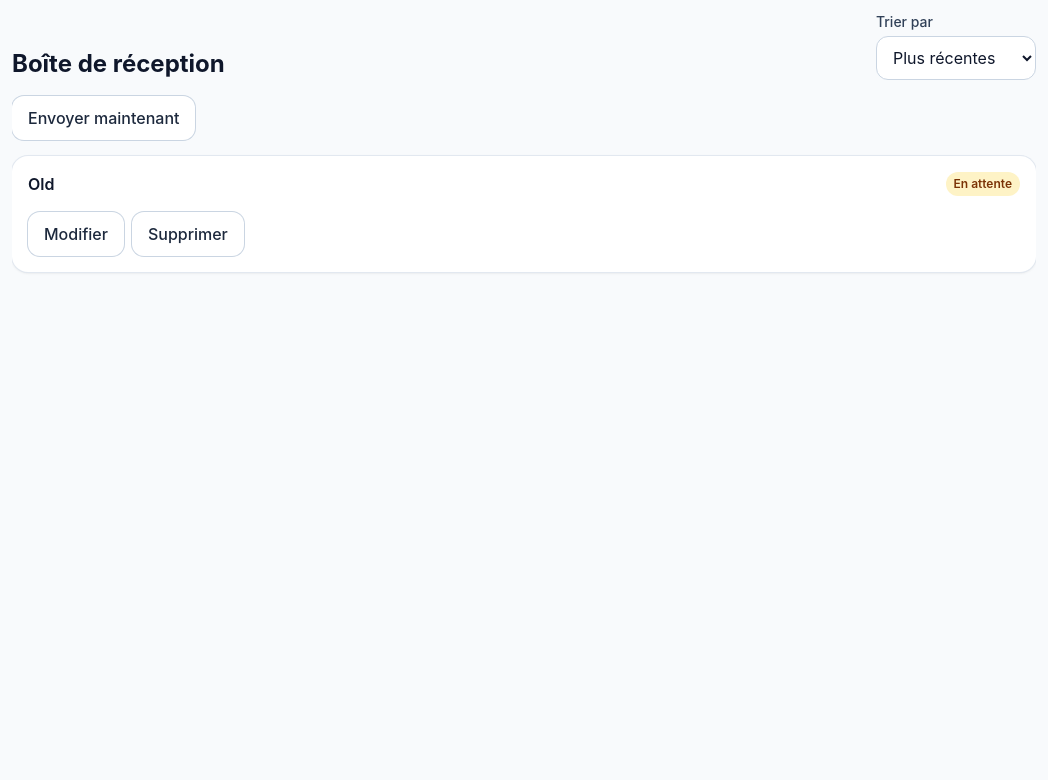
Test: InboxView › edits a capture
The image size is (1048, 780).
Click the button "Modifier".
click(76, 234)  # box x1=28 y1=212 x2=124 y2=256
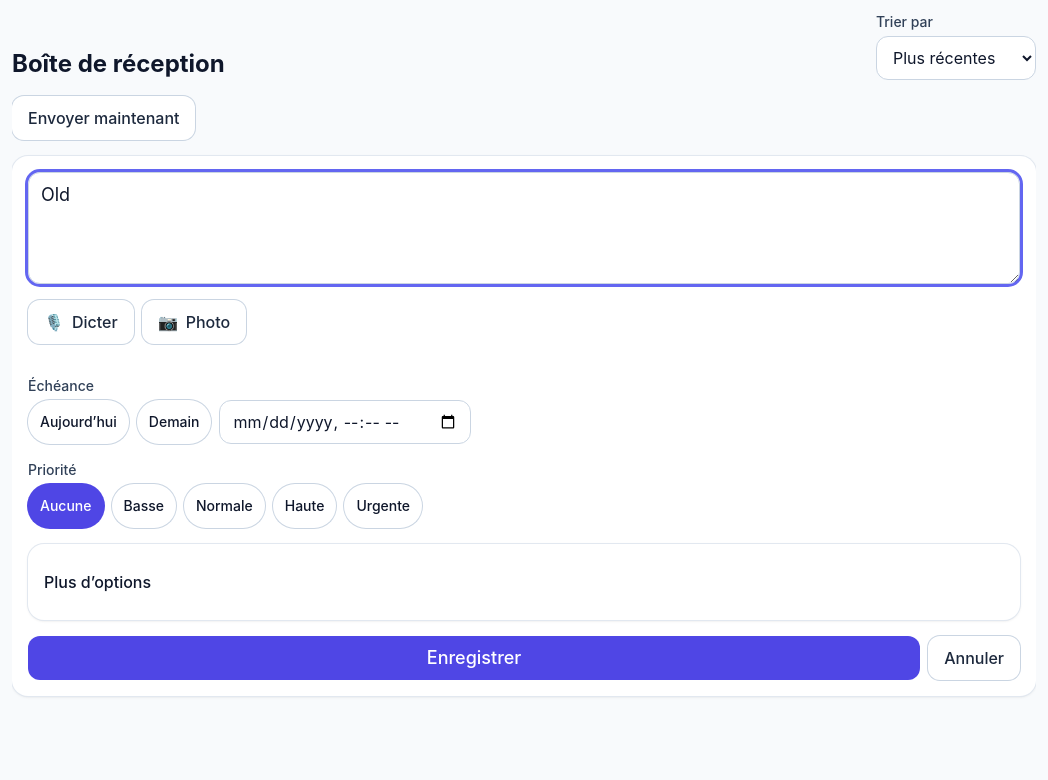
Click the button "Annuler".
click(974, 658)  # box x1=928 y1=636 x2=1020 y2=680
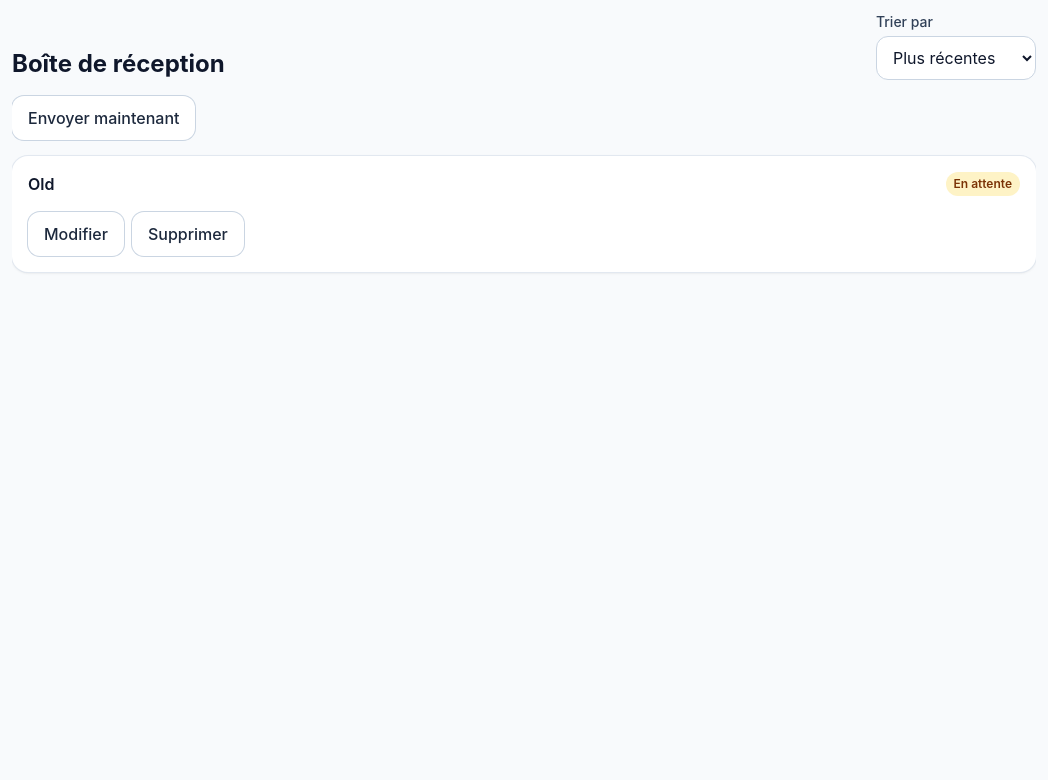
Click the button "Modifier".
click(76, 234)  # box x1=28 y1=212 x2=124 y2=256
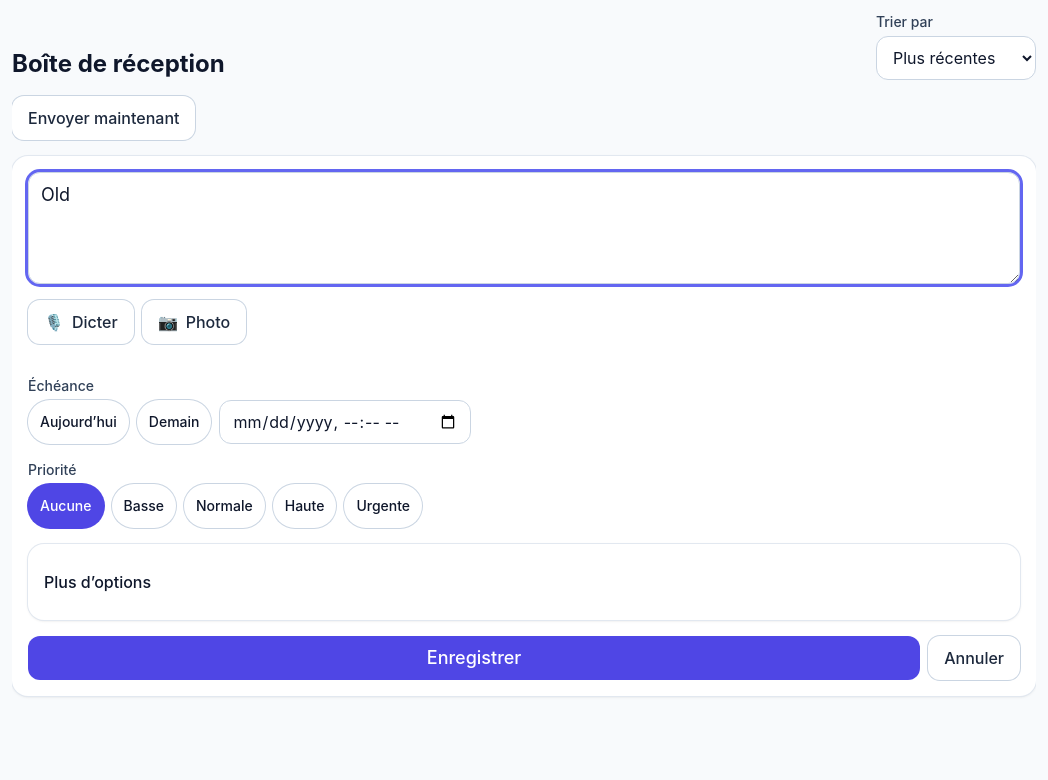
Replace the text in the text box named "Tâche" with "New" at coordinates (524, 228), box x1=28 y1=172 x2=1020 y2=284
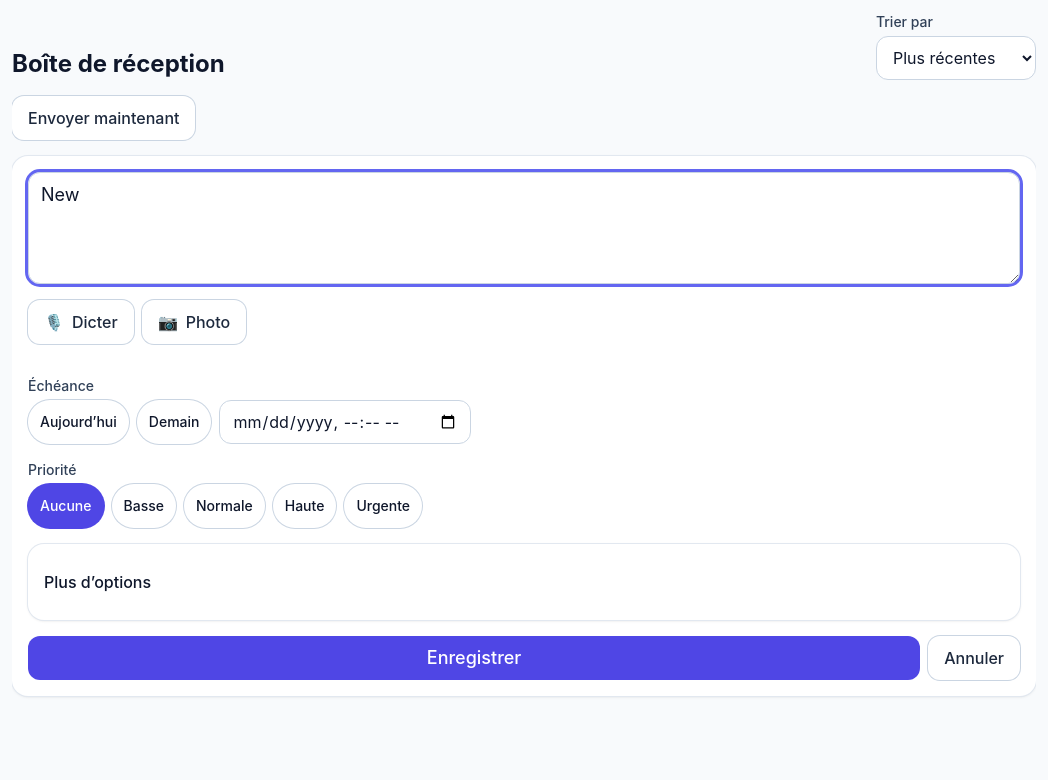
Click the button "Enregistrer".
click(474, 658)  # box x1=28 y1=636 x2=920 y2=680
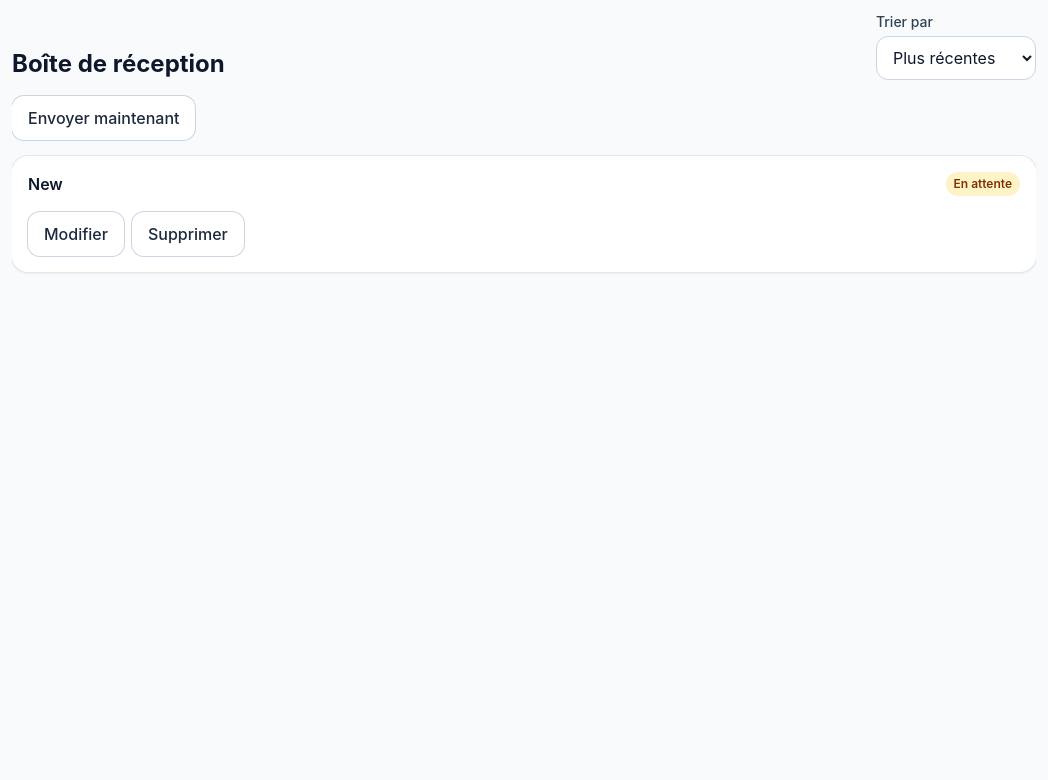
expect the heading "New" is shown: met, box x1=28 y1=172 x2=63 y2=196
